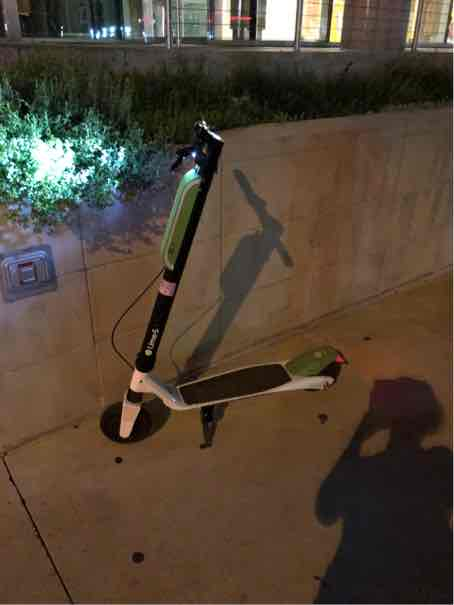scooter: (92, 102, 367, 455)
